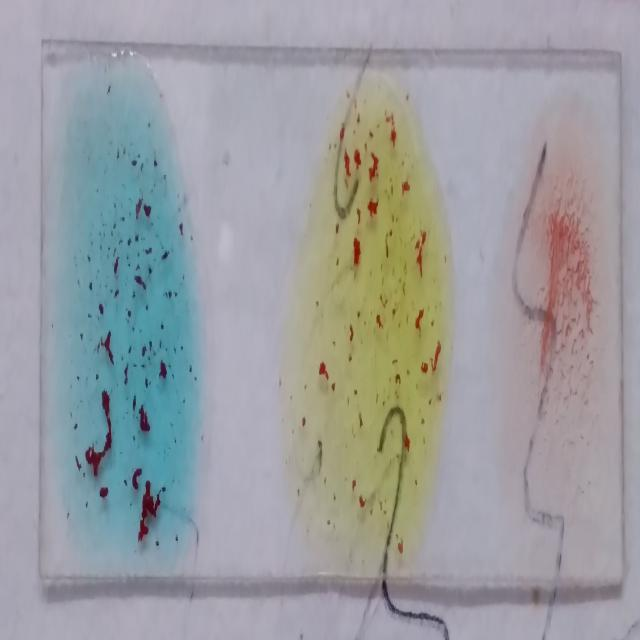A: (49, 55, 197, 538)
B: (301, 95, 438, 528)
D: (511, 117, 607, 504)
